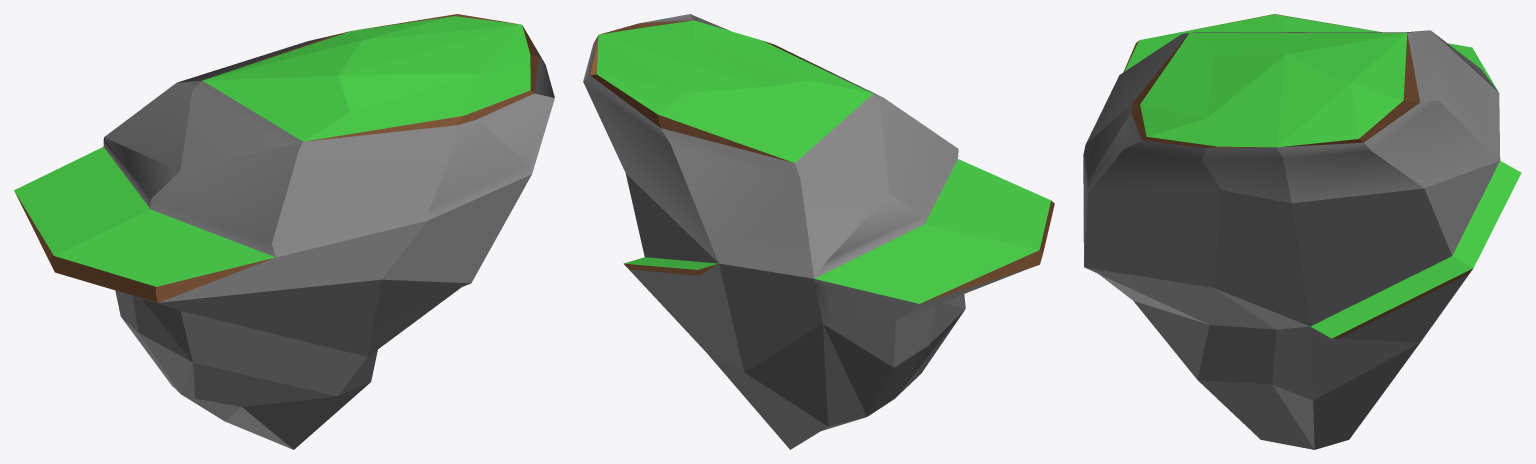
Rendered from Island2.fbx.
The picture shows the model from 3 angles, left to right: view 1: azimuth 30°, elevation 25°; view 2: azimuth 150°, elevation 25°; view 3: azimuth 270°, elevation 25°; orthographic projection. The views are drawn at different scales.
Parts seen in each view (by area): view 1: Island_2; view 2: Island_2; view 3: Island_2.
Boxes of the visible parts, box(x1,y1,x2,y2) form: Island_2: box(14, 14, 554, 449); Island_2: box(583, 14, 1054, 449); Island_2: box(1083, 14, 1521, 449).
Bounding box in the file's own units: 5552 × 4075 × 3757.
